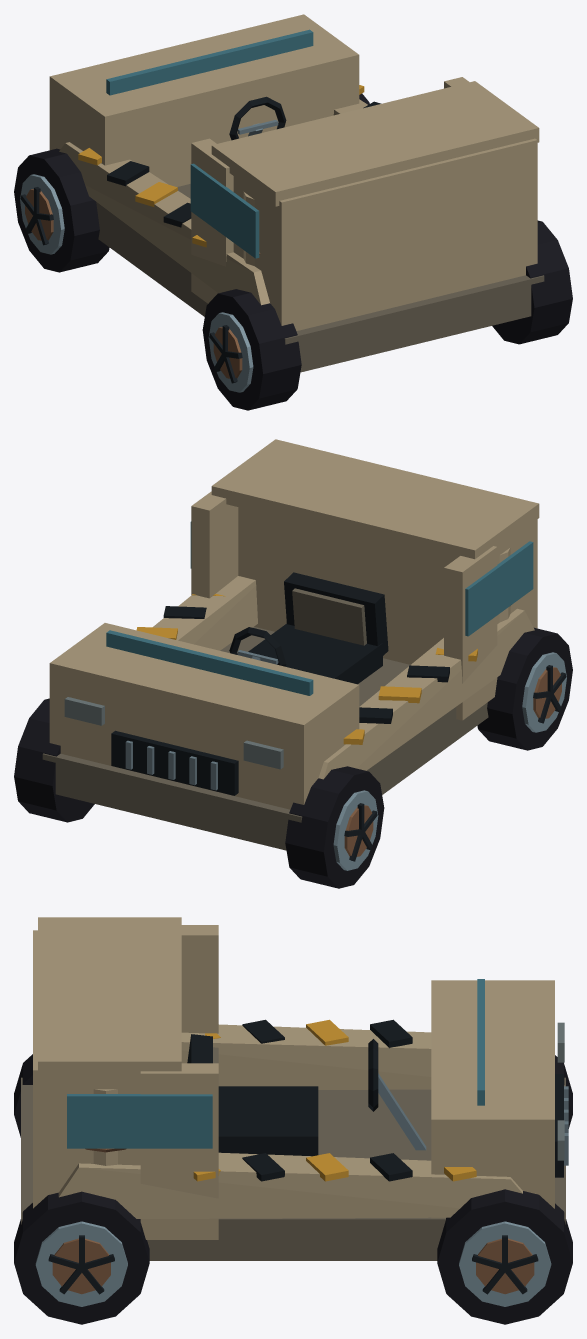
Rendered from kart.glb.
3 renders of one model, top to bottom at view 1: azimuth 30°, elevation 25°; view 2: azimuth 150°, elevation 25°; view 3: azimuth 270°, elevation 25°, orthographic. The views are drawn at different scales.
Visible parts, largest first — view 1: identity-van-van-utility-body, wheel-rear-left, wheel-front-left, wheel-rear-right, identity-van-motif-hazard-stripes, identity-van-driver-cockpit; view 2: identity-van-van-utility-body, identity-van-driver-cockpit, wheel-front-left, wheel-rear-left, wheel-front-right, identity-van-motif-hazard-stripes; view 3: identity-van-van-utility-body, wheel-front-right, wheel-rear-right, identity-van-driver-cockpit, identity-van-motif-hazard-stripes, wheel-rear-left, identity-van-motif-tanks.
Boxes of the visible parts, <box> form: identity-van-van-utility-body: <box>49,14,544,372</box>; wheel-rear-left: <box>202,289,301,410</box>; wheel-front-left: <box>14,148,109,272</box>; wheel-rear-right: <box>492,220,572,344</box>; identity-van-motif-hazard-stripes: <box>78,85,381,247</box>; identity-van-driver-cockpit: <box>229,96,286,140</box>; identity-van-van-utility-body: <box>42,439,539,850</box>; identity-van-driver-cockpit: <box>229,572,388,684</box>; wheel-front-left: <box>285,766,384,888</box>; wheel-rear-left: <box>477,627,572,750</box>; wheel-front-right: <box>14,698,94,822</box>; identity-van-motif-hazard-stripes: <box>136,594,477,744</box>; identity-van-van-utility-body: <box>21,917,568,1260</box>; wheel-front-right: <box>437,1189,572,1324</box>; wheel-rear-right: <box>14,1191,149,1324</box>; identity-van-driver-cockpit: <box>187,1034,426,1156</box>; identity-van-motif-hazard-stripes: <box>193,1019,476,1181</box>; wheel-rear-left: <box>14,1054,32,1137</box>; identity-van-motif-tanks: <box>85,1089,126,1165</box>.
Bounding box in the file's own units: 2.13 × 1.38 × 2.8.
